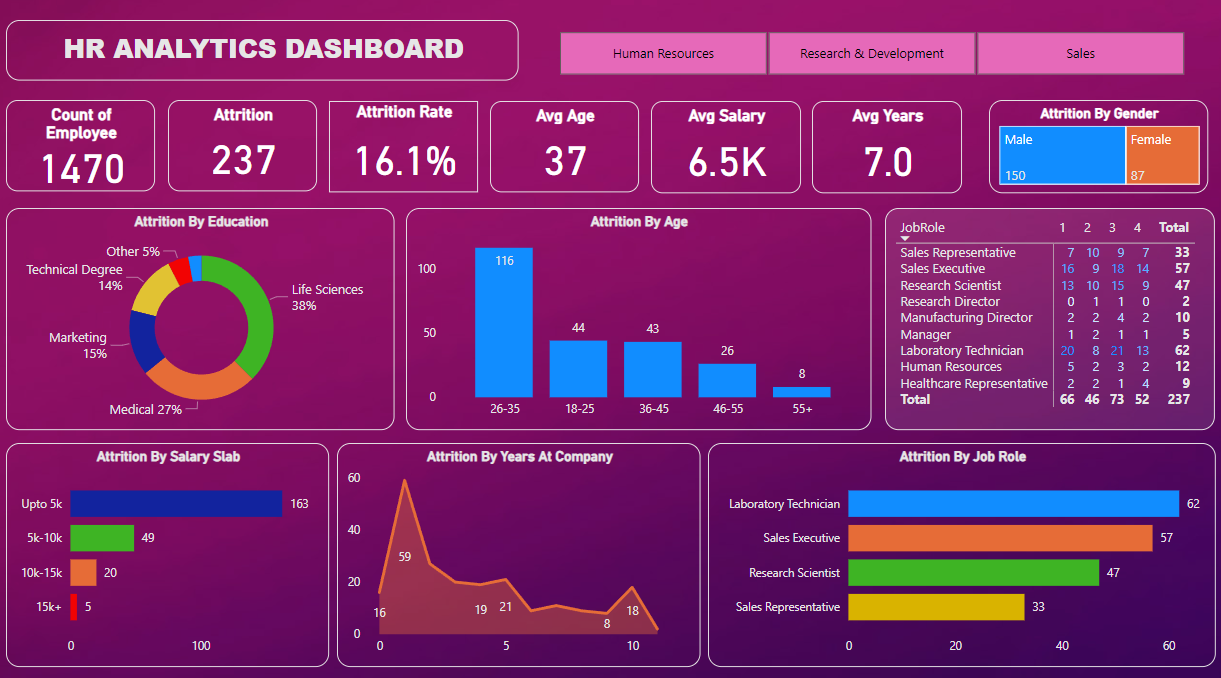

What the dashboard file says about the page in this screenshot:
{"tool":"powerbi","page":{"name":"Page 1","canvas":[1280,720],"ordinal":0},"visuals":[{"type":"card","title":"Count of Employee","fields":{"Values":["CountNonNull(HR_Analytics.EmpID)"]},"box":[11.4,112.3,154.9,94.6],"z":0},{"type":"card","title":"Attrition","fields":{"Values":["Sum(HR_Analytics.AttritionCount)"]},"box":[179.9,112.3,154.9,94.6],"z":1000},{"type":"card","title":"Attrition Rate","fields":{"Values":["HR_Analytics.AttritionRate"]},"box":[347.3,113.3,154.9,94.6],"z":2000},{"type":"card","title":"Avg Age","fields":{"Values":["Avg(HR_Analytics.Age)"]},"box":[514.7,113.3,154.9,94.6],"z":3000},{"type":"card","title":"Avg Salary","fields":{"Values":["Avg(HR_Analytics.MonthlyIncome)"]},"box":[682.1,113.3,156,95.7],"z":4000},{"type":"card","title":"Avg Years","fields":{"Values":["Avg(HR_Analytics.YearsAtCompany)"]},"box":[849.5,113.3,156,95.7],"z":5000},{"type":"donutChart","title":"Attrition By Education","fields":{"Category":["HR_Analytics.EducationField"],"Y":["Sum(HR_Analytics.AttritionCount)"]},"box":[11.4,224.6,404.5,230.8],"z":6000},{"type":"columnChart","title":"Attrition By Age","fields":{"Category":["HR_Analytics.AgeGroup"],"Y":["Sum(HR_Analytics.AttritionCount)"]},"box":[427.4,224.6,483.5,230.8],"z":7000},{"type":"pivotTable","fields":{"Rows":["HR_Analytics.JobRole"],"Columns":["HR_Analytics.JobSatisfaction"],"Values":["Sum(HR_Analytics.AttritionCount)"]},"box":[925.4,224.6,343.1,230.8],"z":8000},{"type":"clusteredBarChart","title":"Attrition By Salary Slab","fields":{"Category":["HR_Analytics.SalarySlab"],"Y":["Sum(HR_Analytics.AttritionCount)"]},"box":[11.4,469,335.9,232.9],"z":9000},{"type":"clusteredBarChart","title":"Attrition By Job Role","fields":{"Category":["HR_Analytics.JobRole"],"Y":["Sum(HR_Analytics.AttritionCount)"]},"box":[741.4,469,528.2,232.9],"z":10000},{"type":"stackedAreaChart","title":"Attrition By Years At Company","fields":{"Category":["HR_Analytics.YearsAtCompany"],"Y":["Sum(HR_Analytics.AttritionCount)"]},"box":[355.6,469,378.5,232.9],"z":11000},{"type":"treemap","title":"Attrition By Gender","fields":{"Group":["HR_Analytics.Gender"],"Values":["Sum(HR_Analytics.AttritionCount)"]},"box":[1033.6,112.3,227.7,96.7],"z":12000},{"type":"slicer","fields":{"Values":["HR_Analytics.Department"]},"box":[561.5,20.8,698.7,71.7],"z":13000},{"type":"textbox","box":[11.4,29.1,533.4,63.4],"z":13001}]}

Visuals, with their boxes in screenshot pixels (x1, y1, x2, y2), scaled from the page's 1280x720 canvas onto the 1221x678 screenshot:
"Count of Employee" card: Rect(11, 106, 159, 195)
"Attrition" card: Rect(172, 106, 319, 195)
"Attrition Rate" card: Rect(331, 107, 479, 196)
"Avg Age" card: Rect(491, 107, 639, 196)
"Avg Salary" card: Rect(651, 107, 799, 197)
"Avg Years" card: Rect(810, 107, 959, 197)
"Attrition By Education" donutChart: Rect(11, 211, 397, 429)
"Attrition By Age" columnChart: Rect(408, 211, 869, 429)
pivotTable - HR_Analytics.JobRole x HR_Analytics.JobSatisfaction: Rect(883, 211, 1210, 429)
"Attrition By Salary Slab" clusteredBarChart: Rect(11, 442, 331, 661)
"Attrition By Job Role" clusteredBarChart: Rect(707, 442, 1211, 661)
"Attrition By Years At Company" stackedAreaChart: Rect(339, 442, 700, 661)
"Attrition By Gender" treemap: Rect(986, 106, 1203, 197)
slicer - HR_Analytics.Department: Rect(536, 20, 1202, 87)
textbox: Rect(11, 27, 520, 87)
